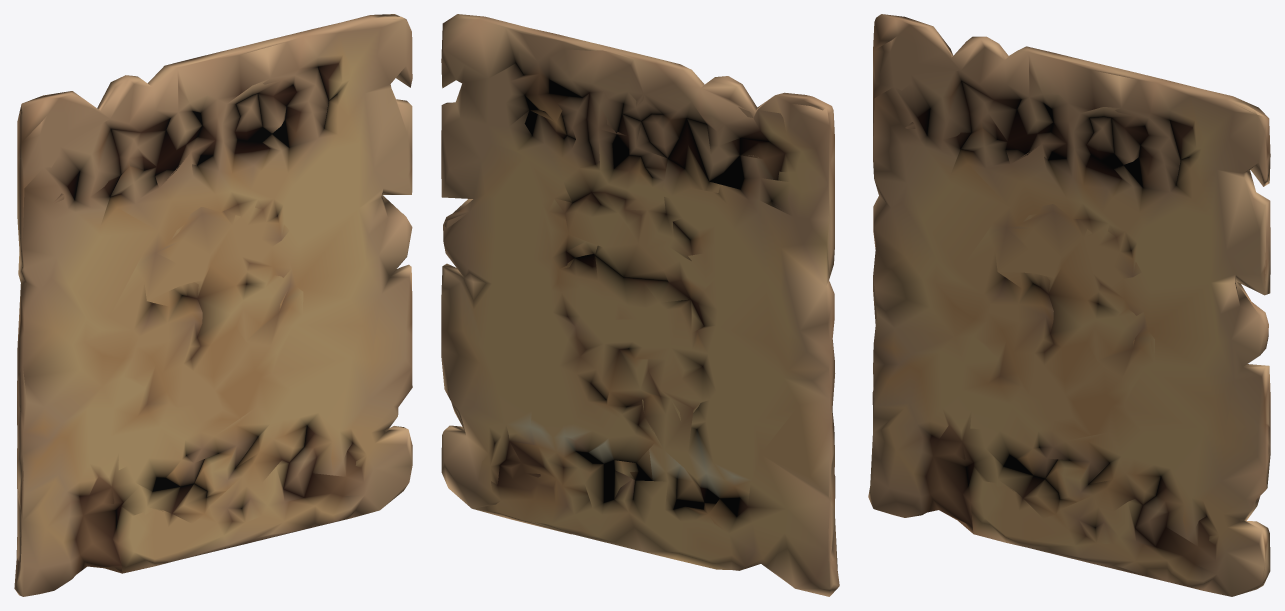
The model's file is gen3d-wanted-poster-lod0.glb.
3 views of the same model, side by side, from view 1: azimuth 30°, elevation 25°; view 2: azimuth 150°, elevation 25°; view 3: azimuth 330°, elevation 25° (orthographic).
Visible parts, largest first — view 1: part_0; view 2: part_0; view 3: part_0.
Part boxes in pixels (bbox=[...]): part_0: bbox=[14, 14, 412, 596]; part_0: bbox=[441, 14, 839, 596]; part_0: bbox=[868, 14, 1270, 596].
Size of the model in its own units: 0.84 by 0.9999 by 0.0226.
